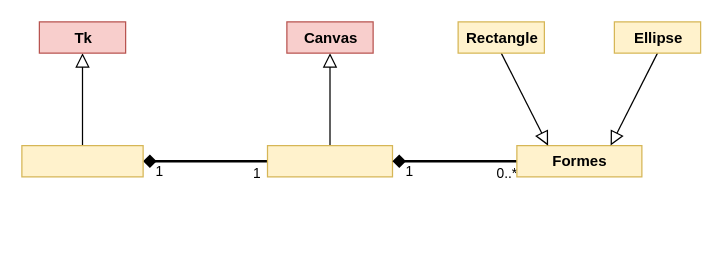
The diagram is 723 pixels wide and 271 high, and some of its shapes have lost their labels. Each missing label, with the centre of its shape:
"FenPrincipale" goes at point 82,160.
"ZoneAffichage" goes at point 329,160.
